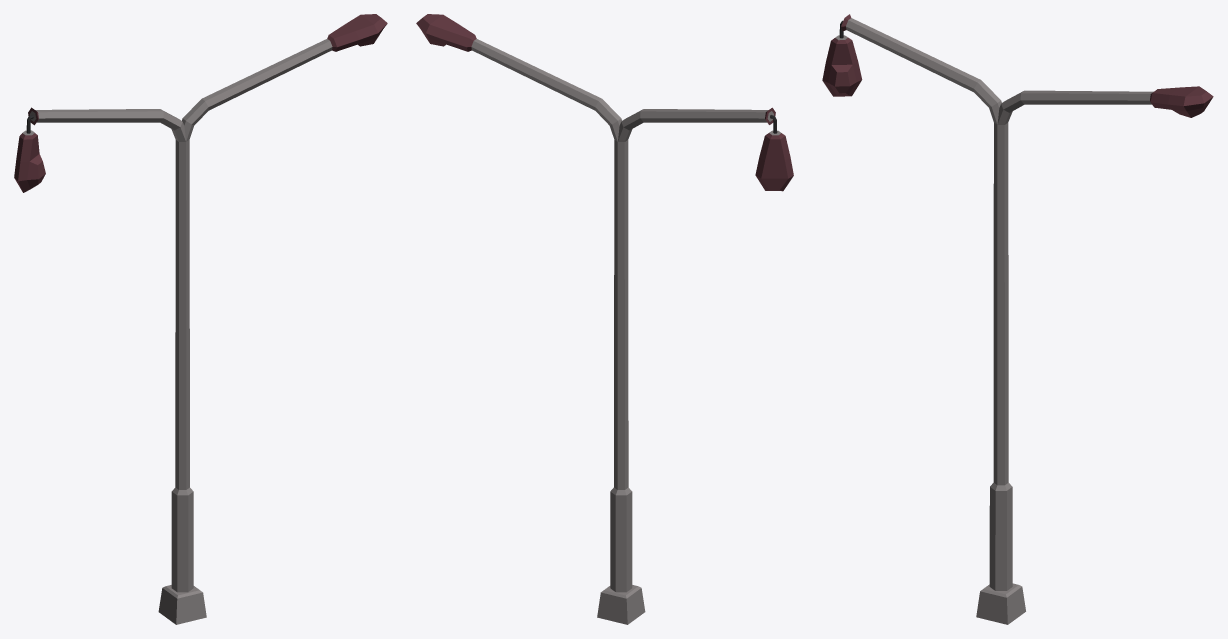
The model's file is lamp-road-double-apocalypse-c.fbx.
The picture shows the model from 3 angles, left to right: view 1: azimuth 30°, elevation 25°; view 2: azimuth 150°, elevation 25°; view 3: azimuth 330°, elevation 25°; orthographic projection. The views are drawn at different scales.
Visible parts, largest first — view 1: lamp-road-double-apocalypse-c; view 2: lamp-road-double-apocalypse-c; view 3: lamp-road-double-apocalypse-c.
Boxes of the visible parts, bbox=[...] form: lamp-road-double-apocalypse-c: bbox=[14, 14, 387, 624]; lamp-road-double-apocalypse-c: bbox=[416, 14, 793, 624]; lamp-road-double-apocalypse-c: bbox=[822, 14, 1213, 624].
Size of the model in its own units: 6.63 by 9.46 by 0.5996.
